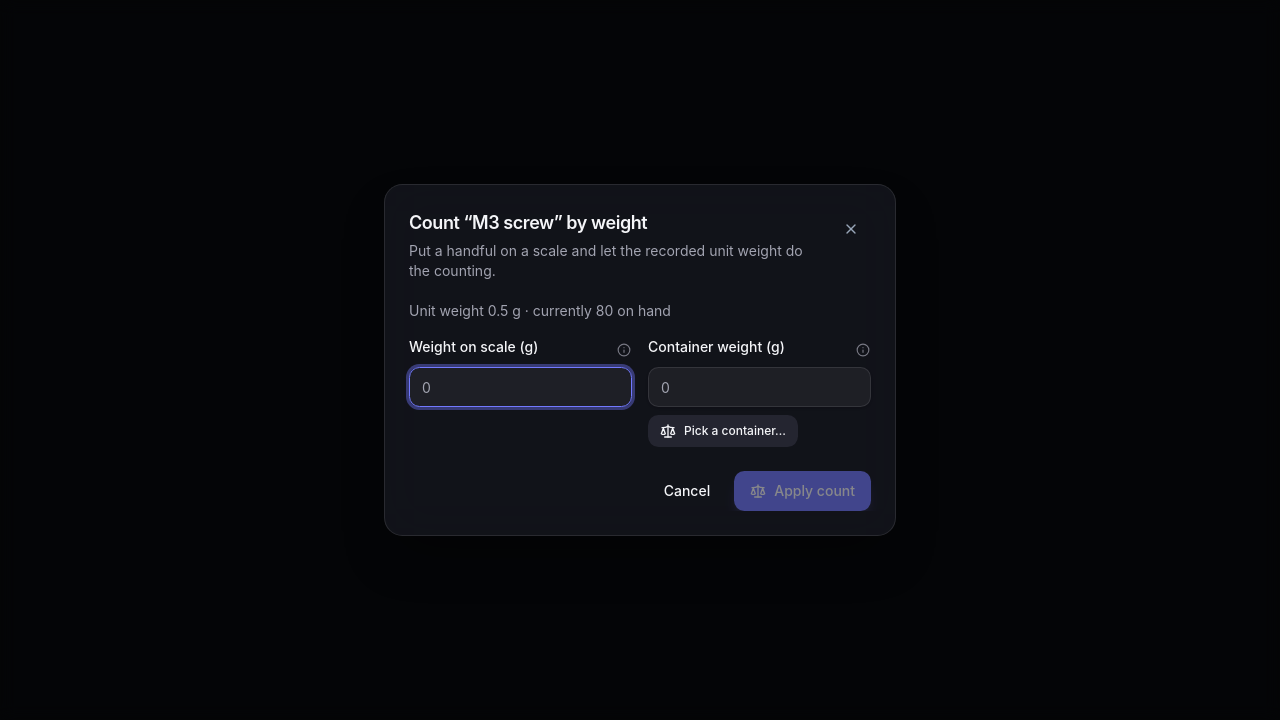
Test: WeighCountDialog (issue #101) › subtracts the container weight before counting
Note: 55 g gross in a 12 g pot → 43 g net → 86 units, exactly as above.
Type "55" into the field labelled "Weight on scale (g)". click: (520, 387)
box: left=409, top=367, right=632, bottom=407
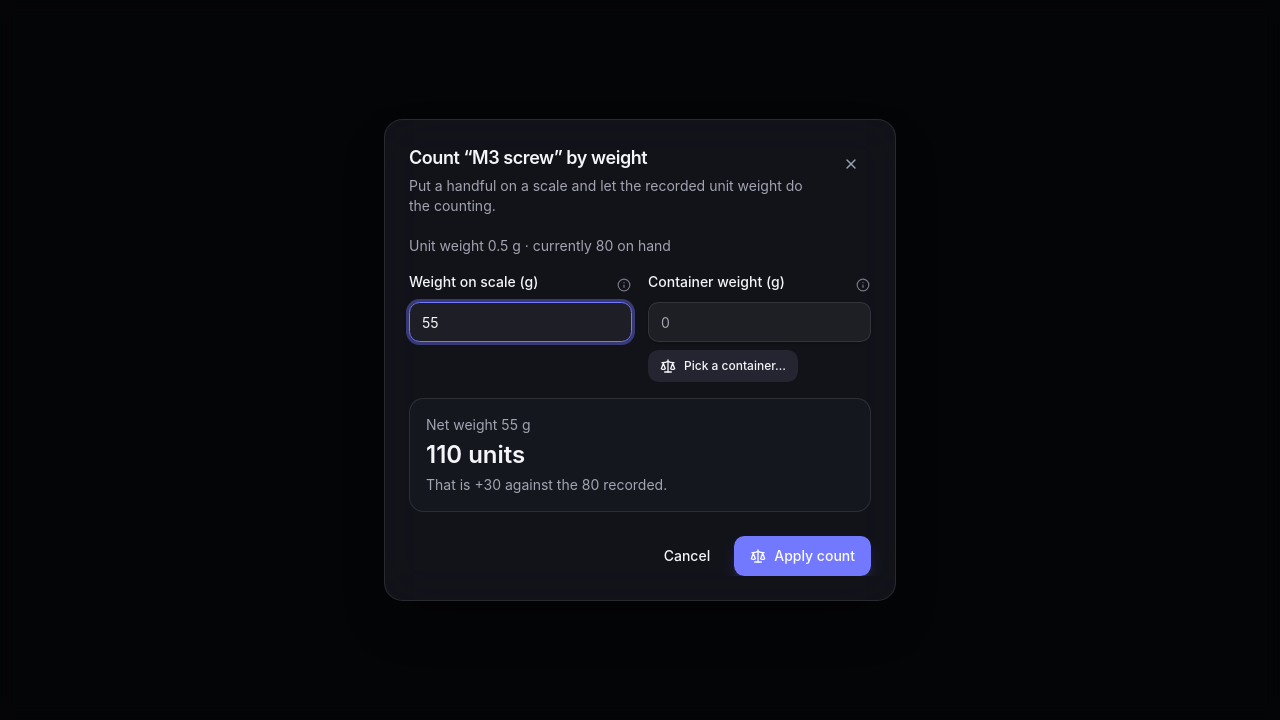
Type "12" into the field labelled "Container weight (g)". click: (760, 322)
box: left=648, top=302, right=871, bottom=342
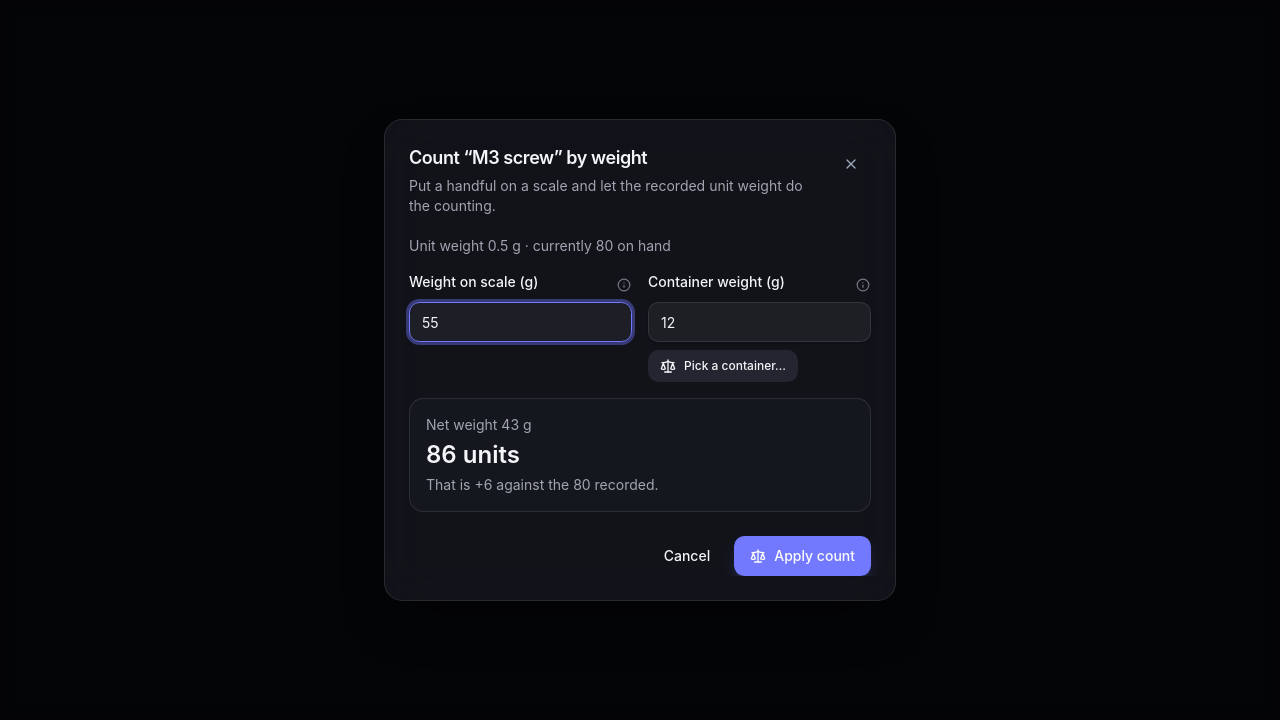
expect the text with test id "weigh-count-result" reads "86 units": met, box left=426, top=440, right=520, bottom=469
